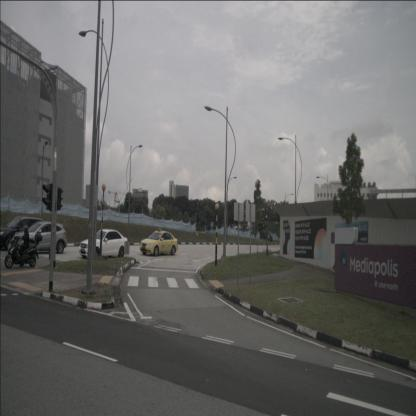movable_object-trafficcone: (265, 242, 269, 257)
vehicle-car: (14, 221, 68, 254), (0, 216, 45, 251), (79, 228, 128, 258), (140, 230, 178, 257)
vehicle-motorcycle: (5, 225, 42, 269)
